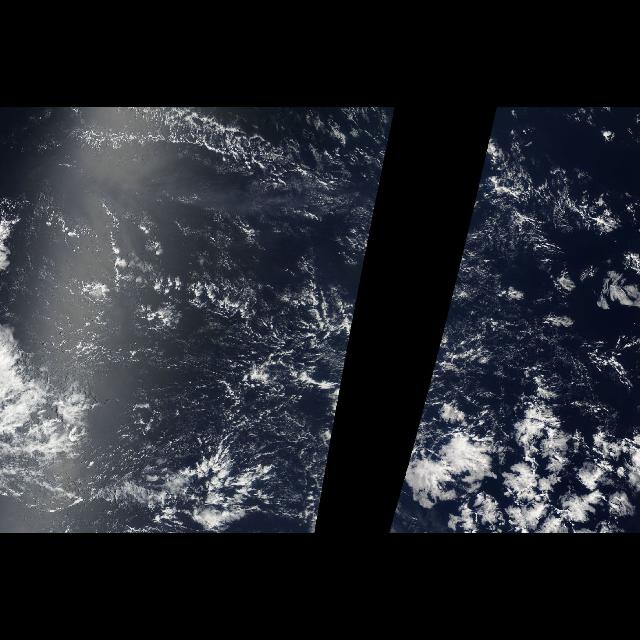Flower: (403, 395, 639, 533)
Gravel: (144, 268, 360, 456)
